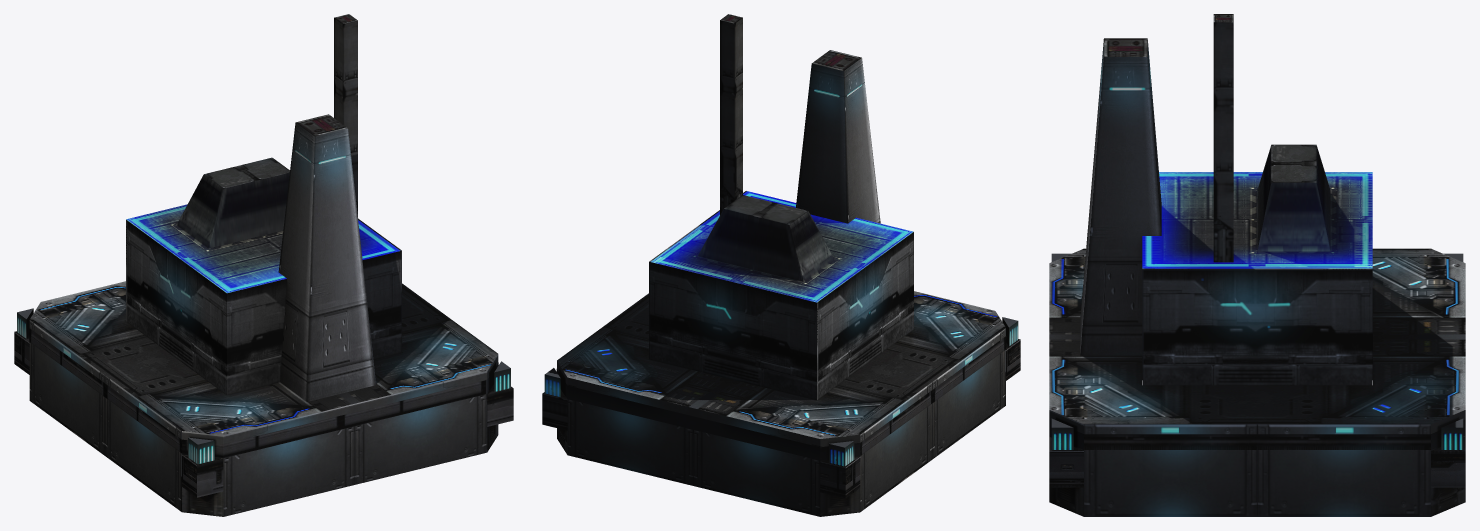
File: act01_pr02_obstruct01.fbx
3 views of the same model, side by side, from view 1: azimuth 30°, elevation 25°; view 2: azimuth 150°, elevation 25°; view 3: azimuth 270°, elevation 25° (orthographic). The views are drawn at different scales.
Visible parts, largest first — view 1: polySurface232, polySurface238, polySurface239, polySurface233, polySurface240, polySurface237, polySurface234, polySurface230, polySurface236; view 2: polySurface232, polySurface238, polySurface239, polySurface233, polySurface240, polySurface236, polySurface235, polySurface231; view 3: polySurface232, polySurface238, polySurface239, polySurface233, polySurface240, polySurface235, polySurface234, polySurface228, polySurface229.
Part boxes in pixels (x1=…): polySurface232: x1=29, y1=281, x2=498, y2=516; polySurface238: x1=126, y1=157, x2=401, y2=394; polySurface239: x1=278, y1=114, x2=376, y2=401; polySurface233: x1=29, y1=328, x2=498, y2=458; polySurface240: x1=334, y1=14, x2=357, y2=216; polySurface237: x1=182, y1=454, x2=223, y2=497; polySurface234: x1=487, y1=384, x2=513, y2=426; polySurface230: x1=188, y1=437, x2=214, y2=464; polySurface236: x1=14, y1=331, x2=29, y2=374; polySurface232: x1=557, y1=291, x2=1005, y2=516; polySurface238: x1=649, y1=191, x2=913, y2=400; polySurface239: x1=796, y1=50, x2=880, y2=223; polySurface233: x1=556, y1=336, x2=1006, y2=460; polySurface240: x1=720, y1=14, x2=742, y2=214; polySurface236: x1=820, y1=457, x2=860, y2=498; polySurface235: x1=542, y1=389, x2=567, y2=430; polySurface231: x1=829, y1=441, x2=854, y2=466; polySurface232: x1=1049, y1=248, x2=1465, y2=516; polySurface238: x1=1142, y1=144, x2=1372, y2=385; polySurface239: x1=1080, y1=38, x2=1161, y2=355; polySurface233: x1=1049, y1=419, x2=1465, y2=449; polySurface240: x1=1213, y1=14, x2=1233, y2=262; polySurface235: x1=1431, y1=436, x2=1465, y2=487; polySurface234: x1=1049, y1=436, x2=1083, y2=487; polySurface228: x1=1051, y1=418, x2=1073, y2=449; polySurface229: x1=1441, y1=418, x2=1463, y2=449.
Bounding box in the file's own units: 1 × 1.19 × 1.
